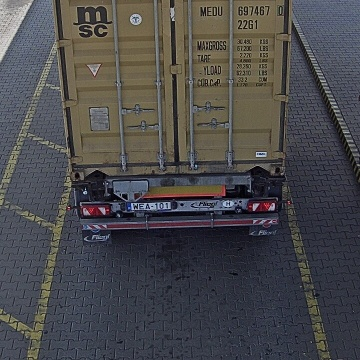serial_id: (200, 5, 284, 16)
